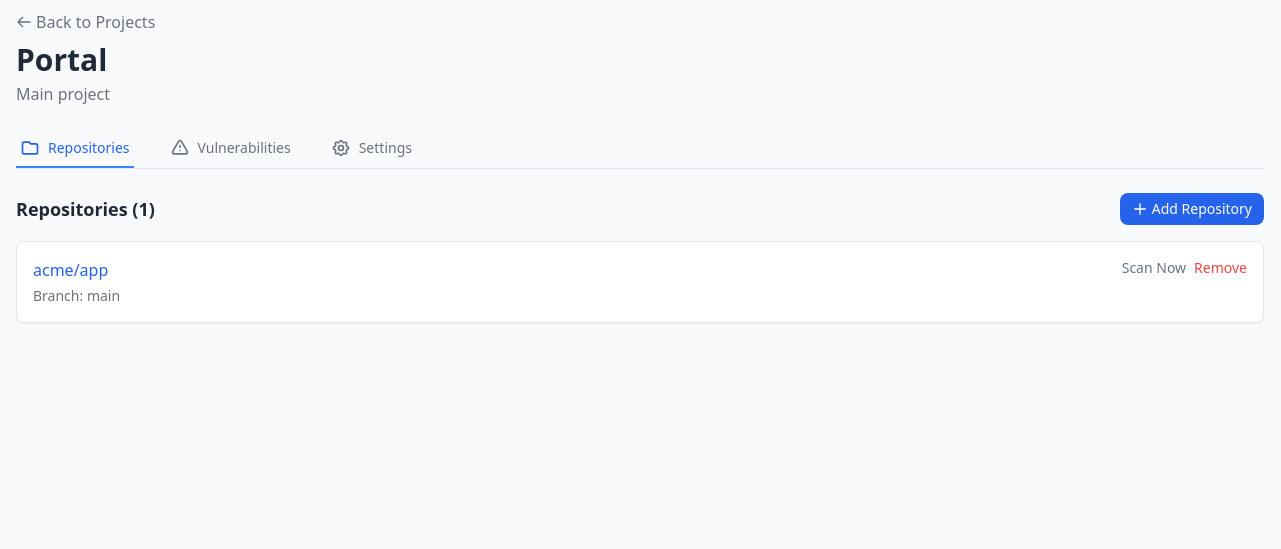
Scenario: ProjectDetailPage › the Settings tab shows project details
Step 1. Click the button "Settings" → (371, 149), box 327,130 -> 416,168
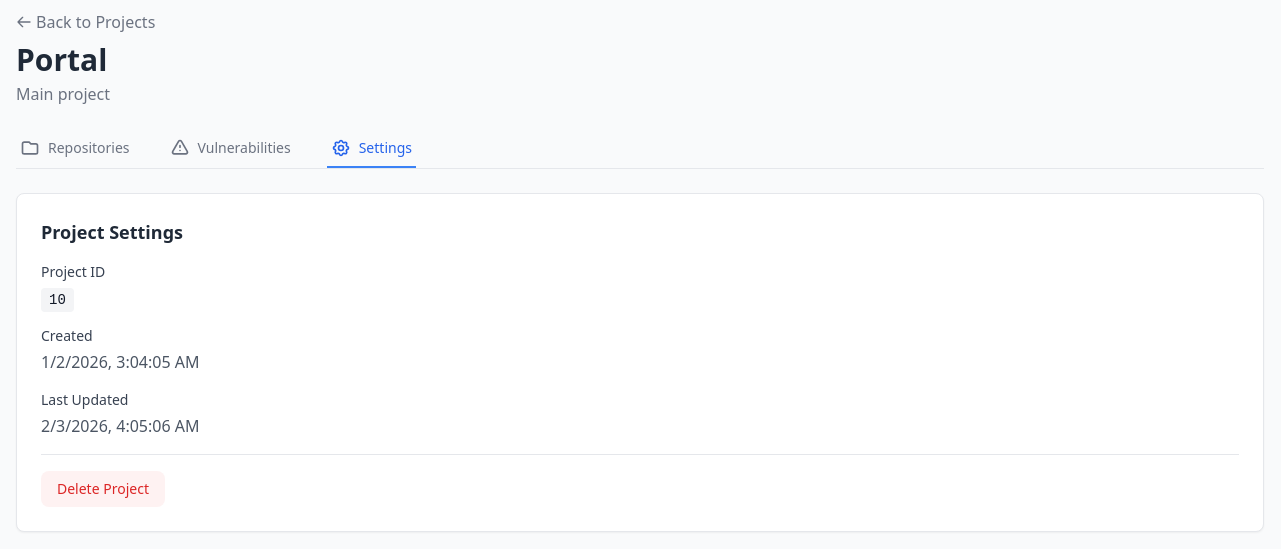
expect the heading "Project Settings" is shown: met, box 41,220 -> 183,244
expect the text "10" is shown: met, box 41,288 -> 74,312
